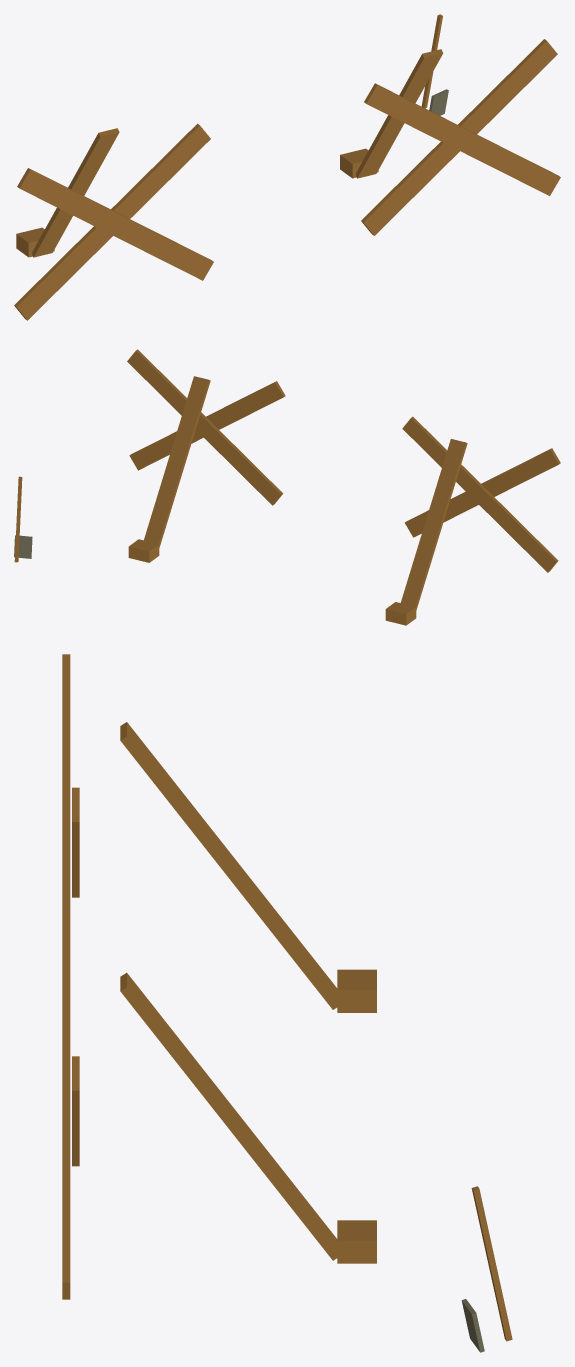
Rendered from SM_ObraPuertaApuntalada_v0_8m_LOD0.fbx.
3 renders of one model, top to bottom at view 1: azimuth 30°, elevation 25°; view 2: azimuth 150°, elevation 25°; view 3: azimuth 270°, elevation 25°, orthographic. The views are drawn at different scales.
Parts seen in each view (by area): view 1: SM_obra_curso_v30_LOD0; view 2: SM_obra_curso_v30_LOD0; view 3: SM_obra_curso_v30_LOD0.
Part boxes in pixels (x1,y1,x2,y2): SM_obra_curso_v30_LOD0: [14, 14, 560, 320]; SM_obra_curso_v30_LOD0: [14, 349, 560, 625]; SM_obra_curso_v30_LOD0: [62, 654, 512, 1352].
Bounding box in the file's own units: 6.44 × 1.92 × 2.83.
